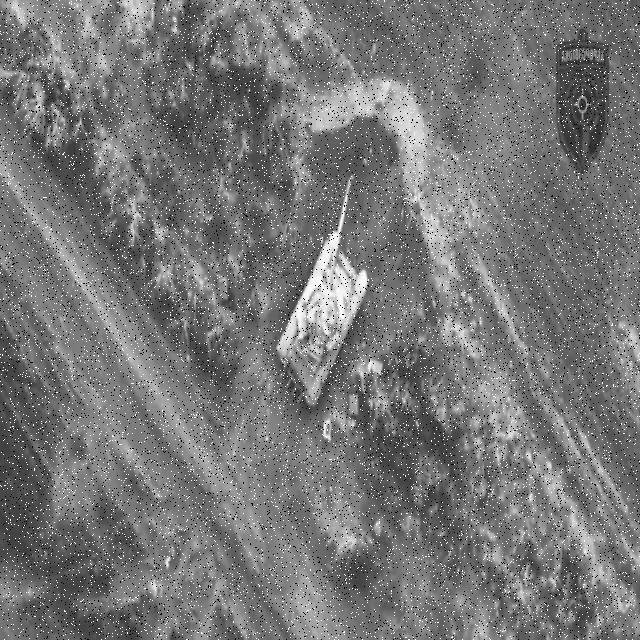MIL_MBT: (276, 175, 370, 414)
